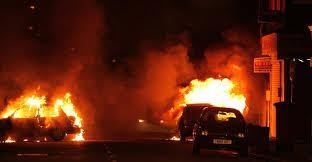fire: (0, 86, 88, 142), (172, 74, 249, 118)
